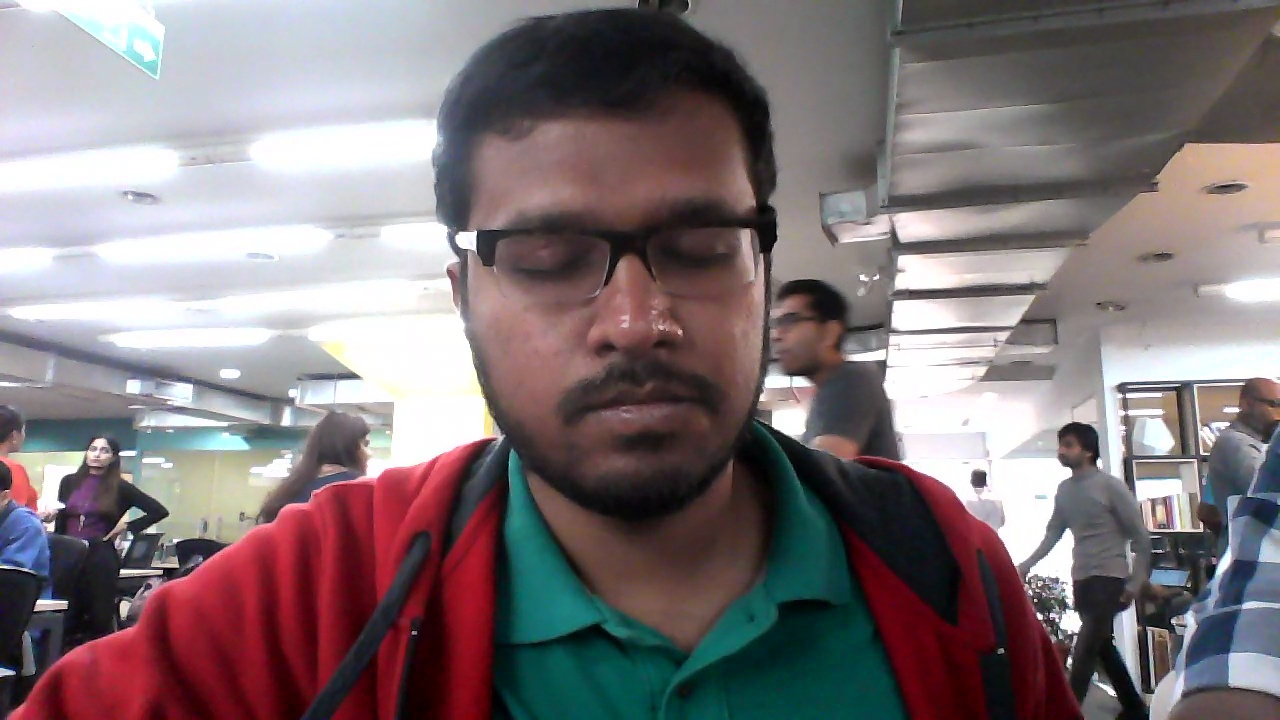closed: (430, 16, 787, 534)
